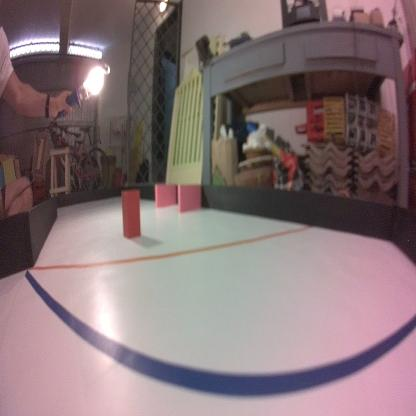magenta: (176, 182, 204, 217), (153, 182, 177, 208)
red: (121, 189, 142, 243)
